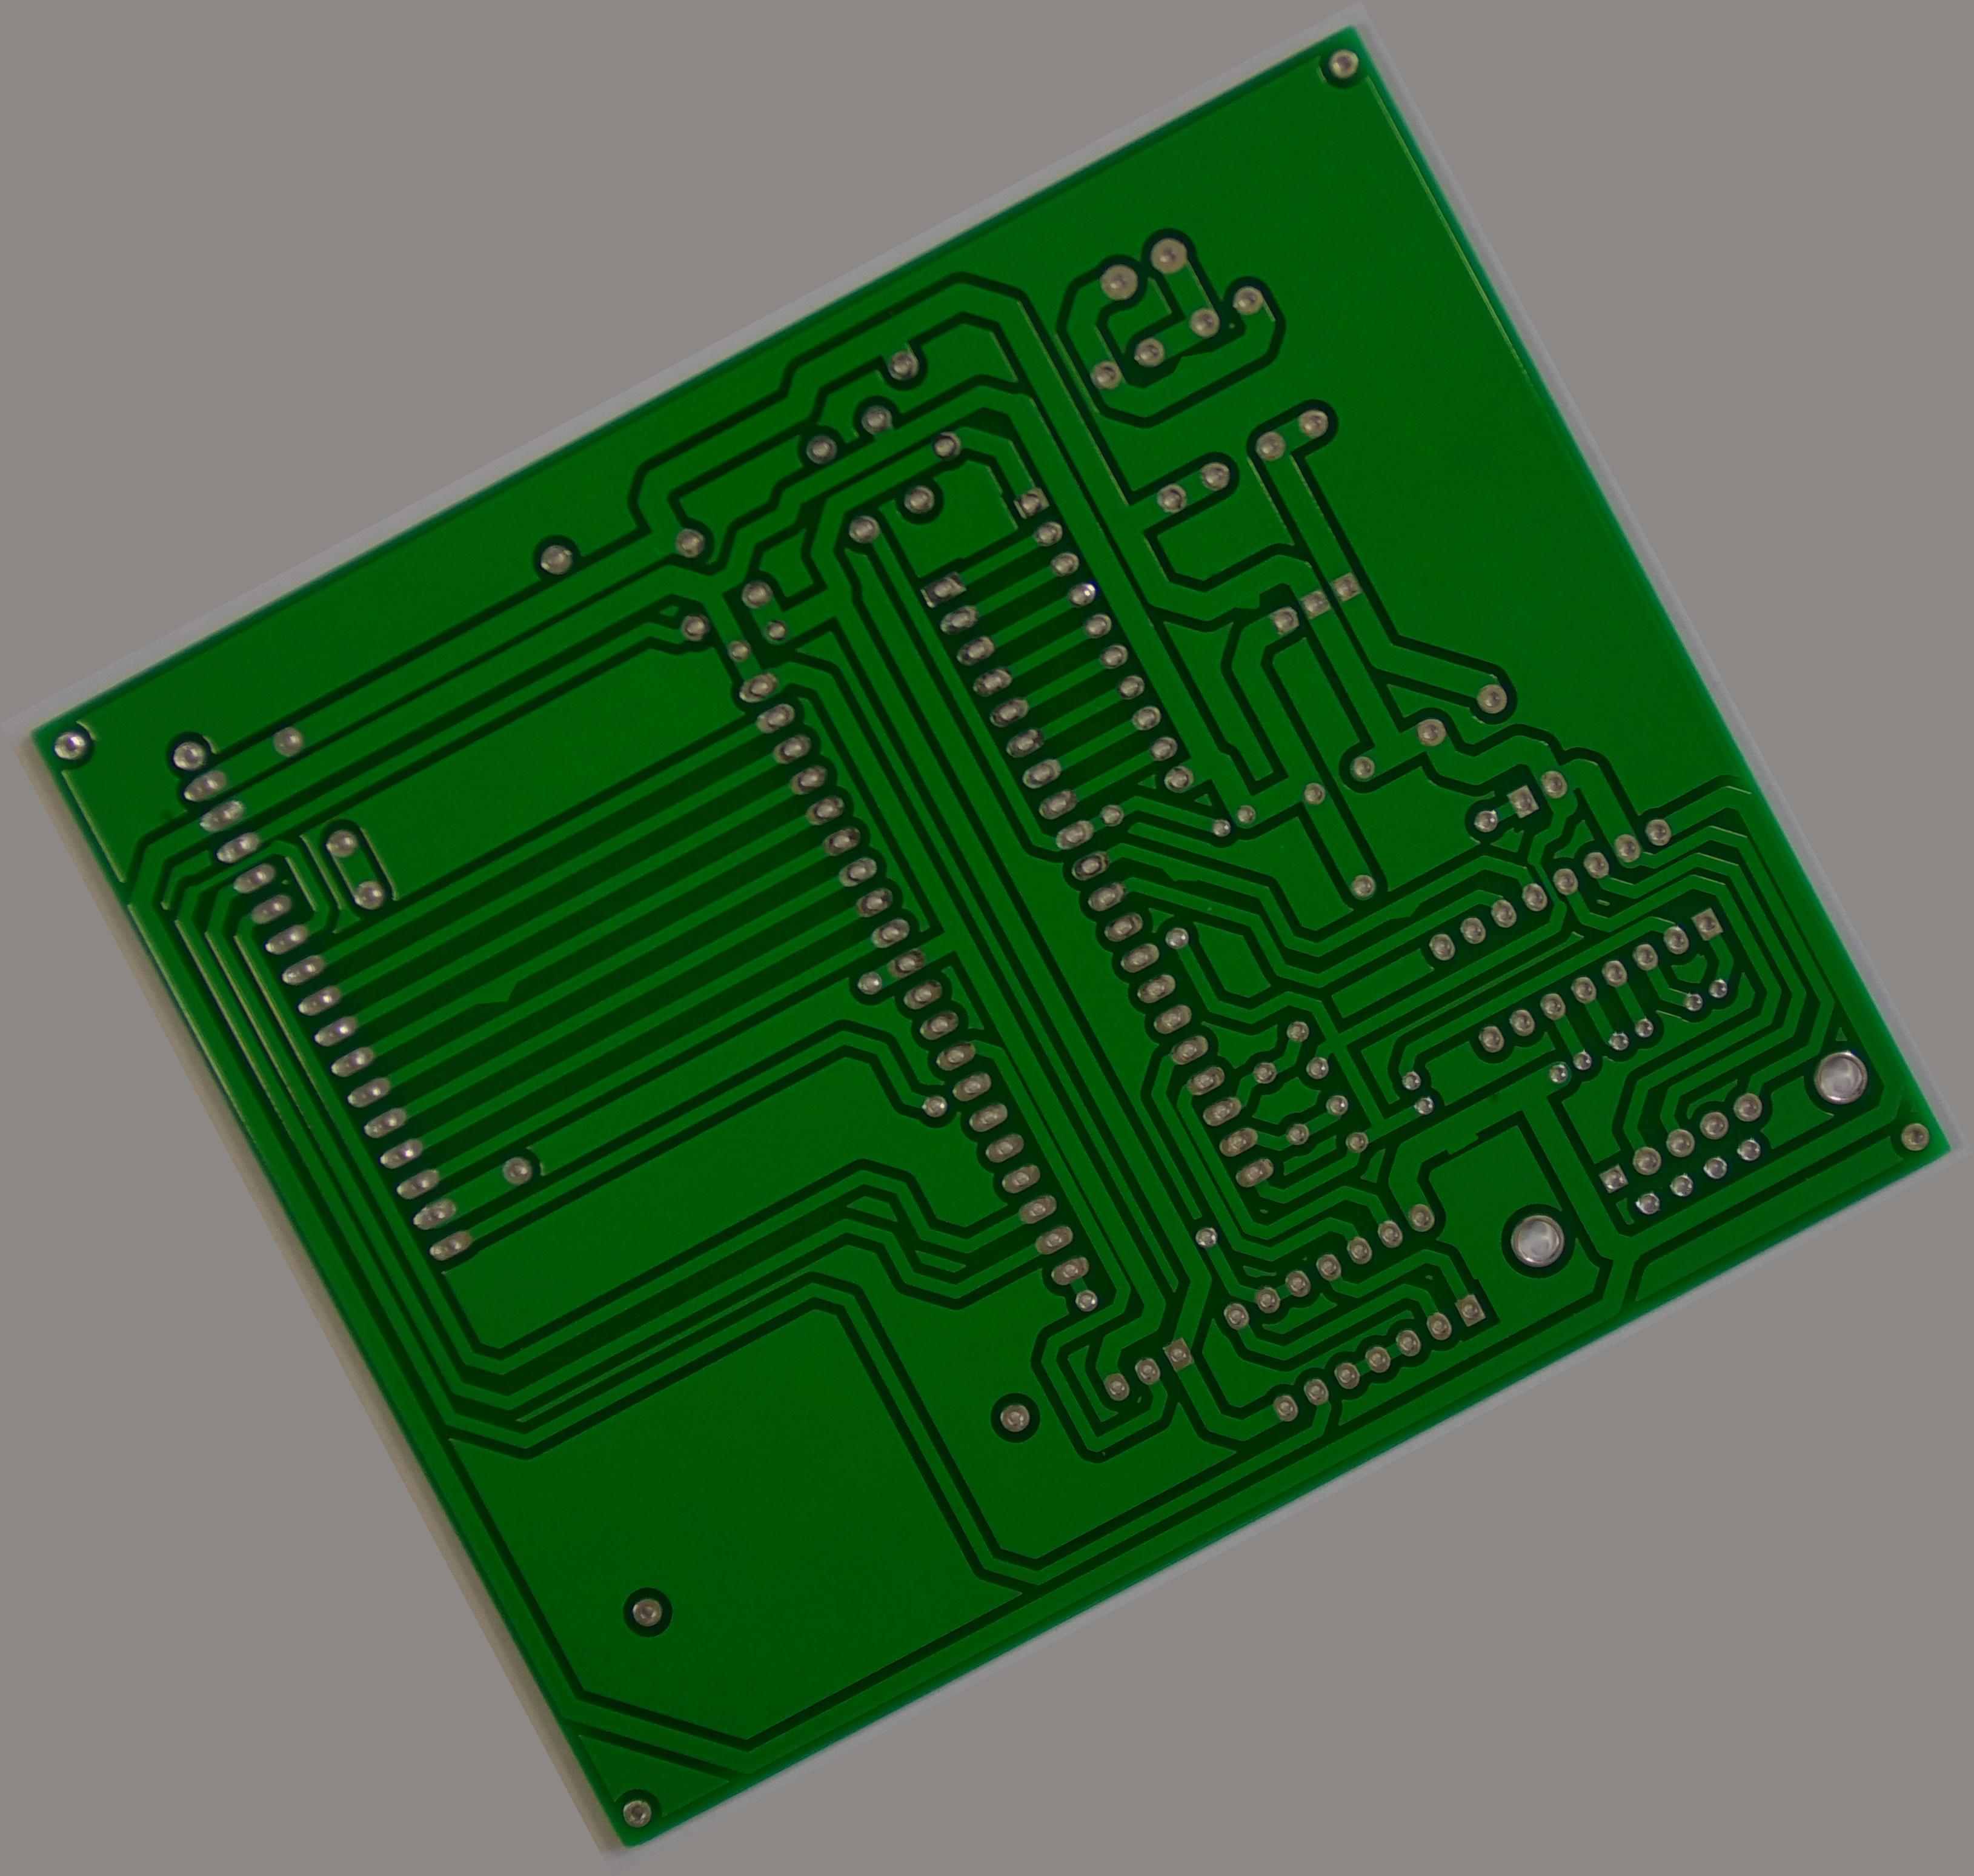spur: (451, 955, 538, 1030), (1146, 837, 1220, 907), (1368, 879, 1433, 937), (1424, 1112, 1491, 1168), (1225, 572, 1283, 625)
